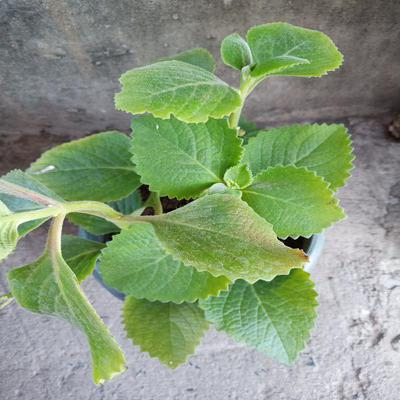Oregano: (57, 79, 357, 365)
